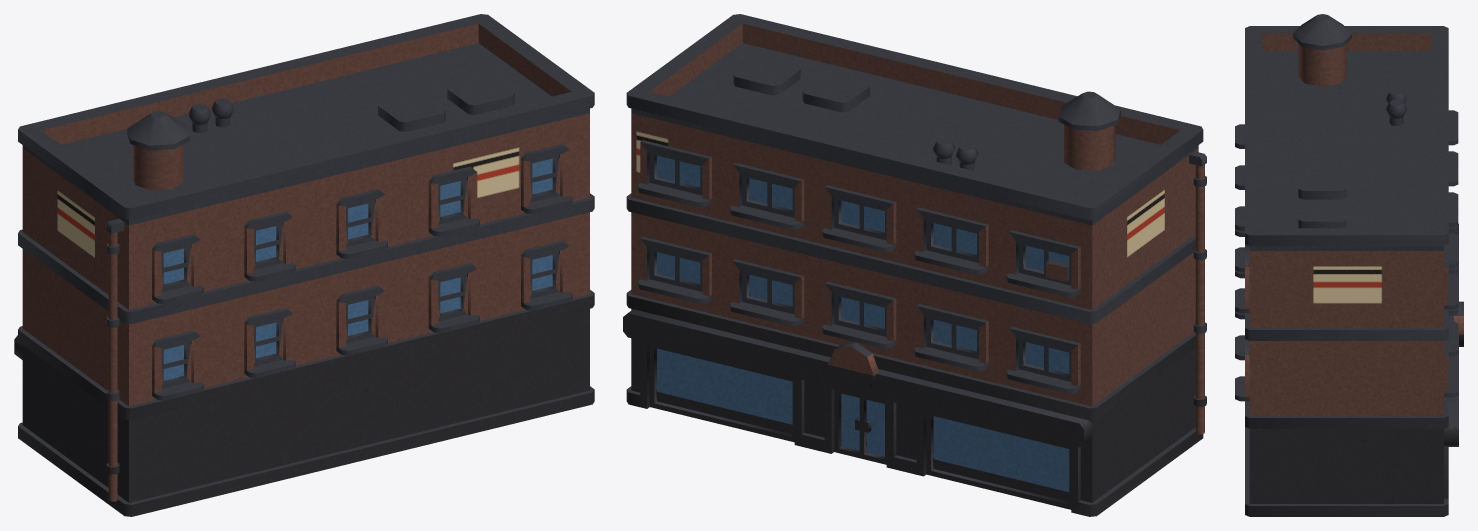
File: building-k-brown.glb
3 views of the same model, side by side, from view 1: azimuth 30°, elevation 25°; view 2: azimuth 150°, elevation 25°; view 3: azimuth 270°, elevation 25° (orthographic). The views are drawn at different scales.
Visible parts, largest first — view 1: building-k-brown; view 2: building-k-brown; view 3: building-k-brown.
Boxes of the visible parts, x1,y1,x2,y2 form: building-k-brown: (14,14,594,516); building-k-brown: (623,14,1206,516); building-k-brown: (1235,14,1463,516).
Bounding box in the file's own units: 2.08 × 1.47 × 0.942.
Materials: 1 (1 with a texture image).
